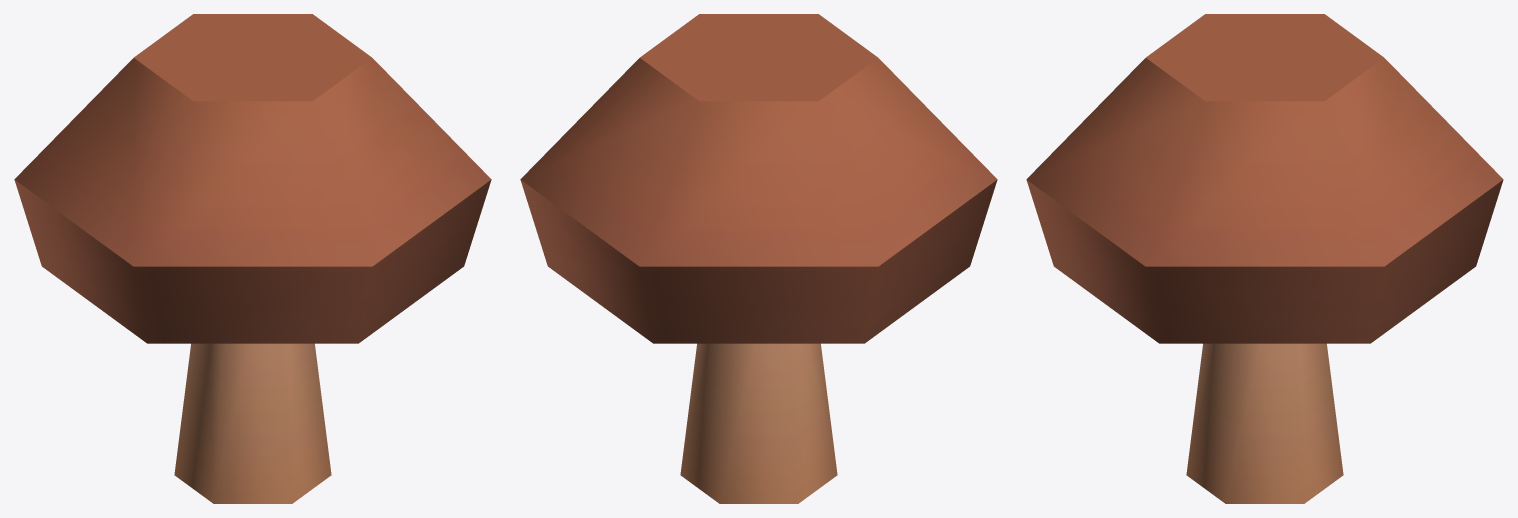
File: kenney-food-mushroom.glb
3 renders of one model, left to right at view 1: azimuth 30°, elevation 25°; view 2: azimuth 150°, elevation 25°; view 3: azimuth 270°, elevation 25°, orthographic.
Parts seen in each view (by area): view 1: mushroom; view 2: mushroom; view 3: mushroom.
Part boxes in pixels (x1,y1,x2,y2): mushroom: [14, 14, 491, 503]; mushroom: [520, 14, 997, 503]; mushroom: [1026, 14, 1503, 503].
Bounding box in the file's own units: 0.1249 × 0.1392 × 0.1442.
1 material, 1 textured.
